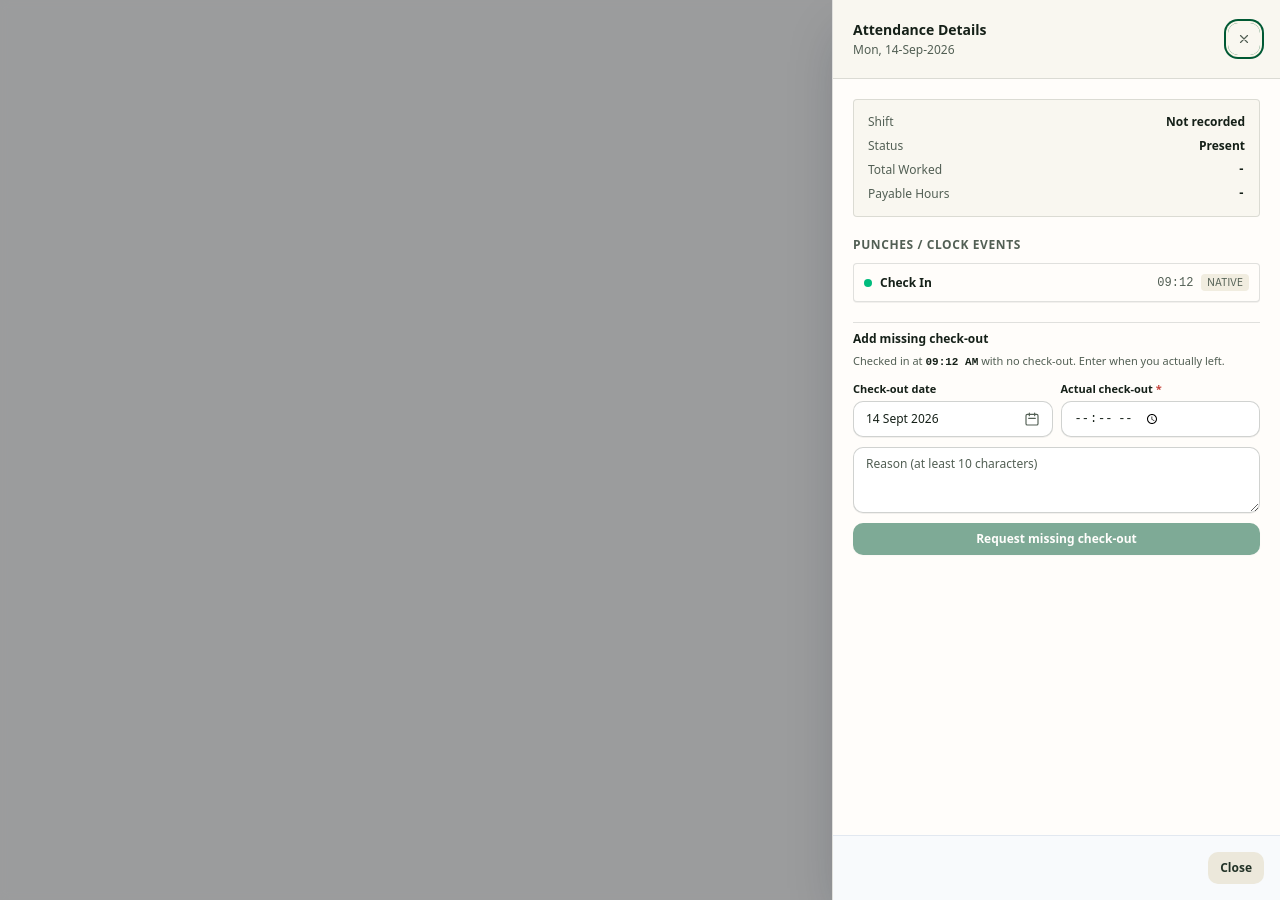
Test: attendance drawer, day with no check-out › shows the server's refusal and claims nothing was sent
Type "18:07" into the time field labelled "Actual check-out *".
click(1160, 419); type("18:07")  # box [1060, 401, 1260, 437]
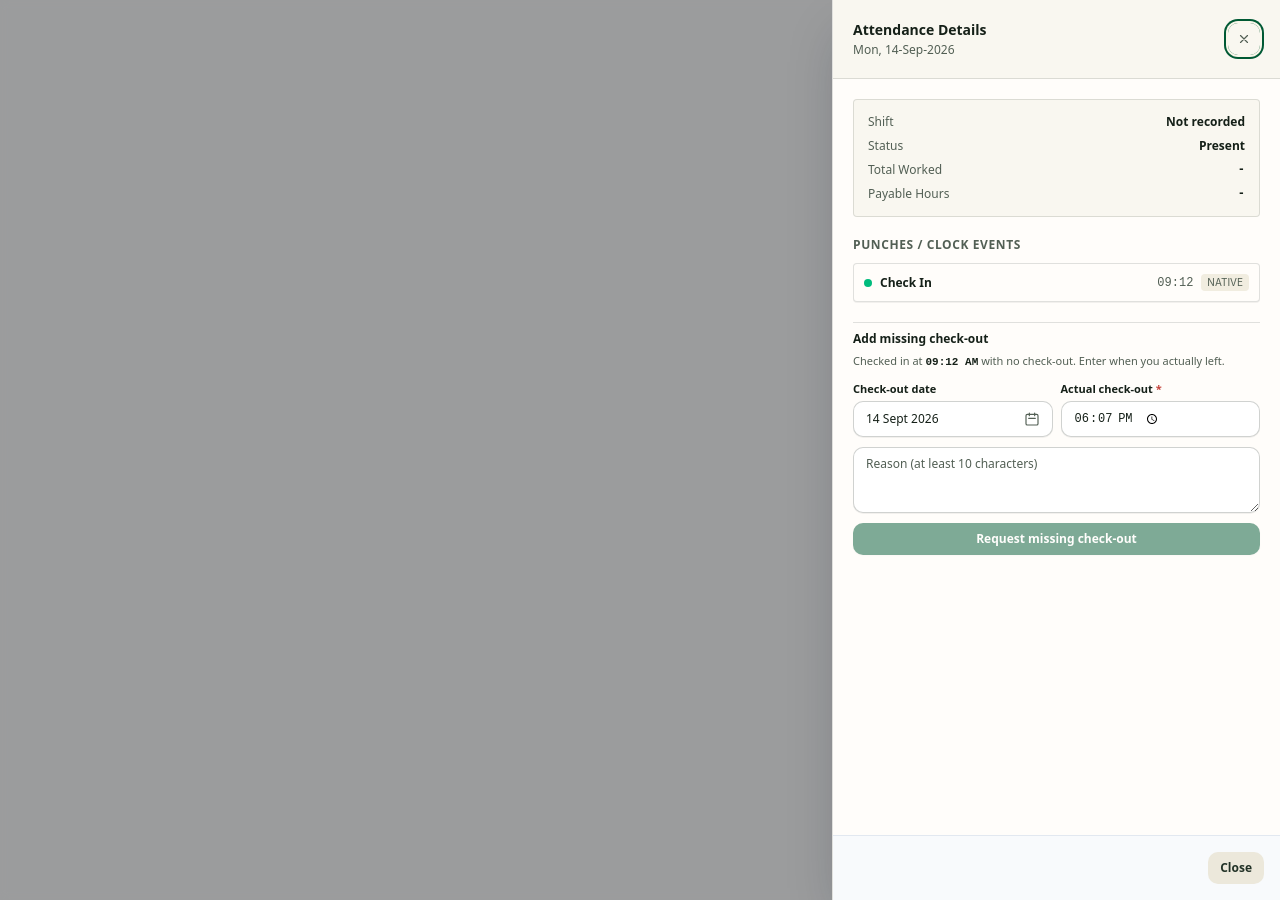
Type "Forgot to punch out" into the text box labelled "Reason".
click(1056, 480); type("Forgot to punch out")  # box [853, 447, 1260, 513]
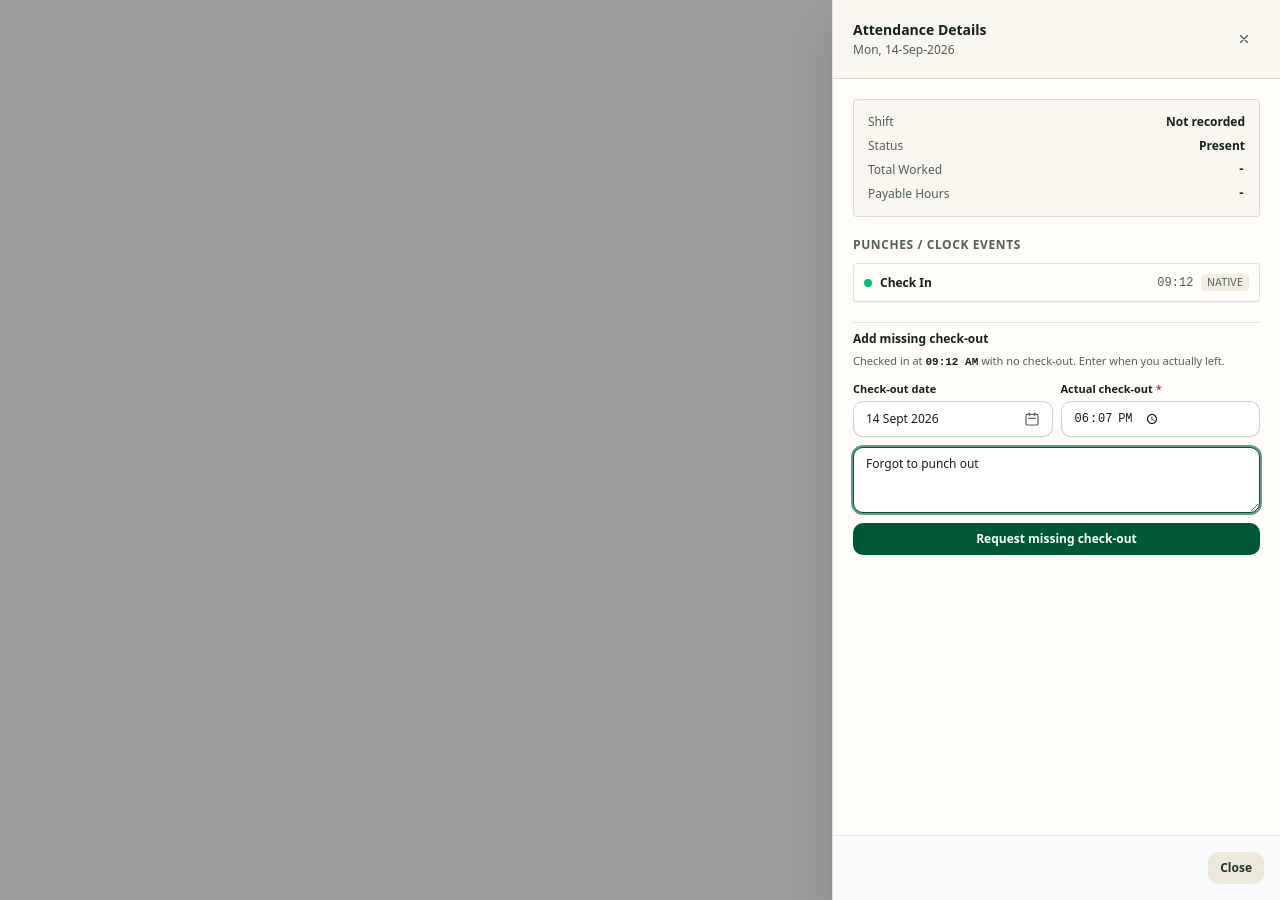
Click the button "Request missing check-out".
click(1056, 539)  # box [853, 523, 1260, 555]
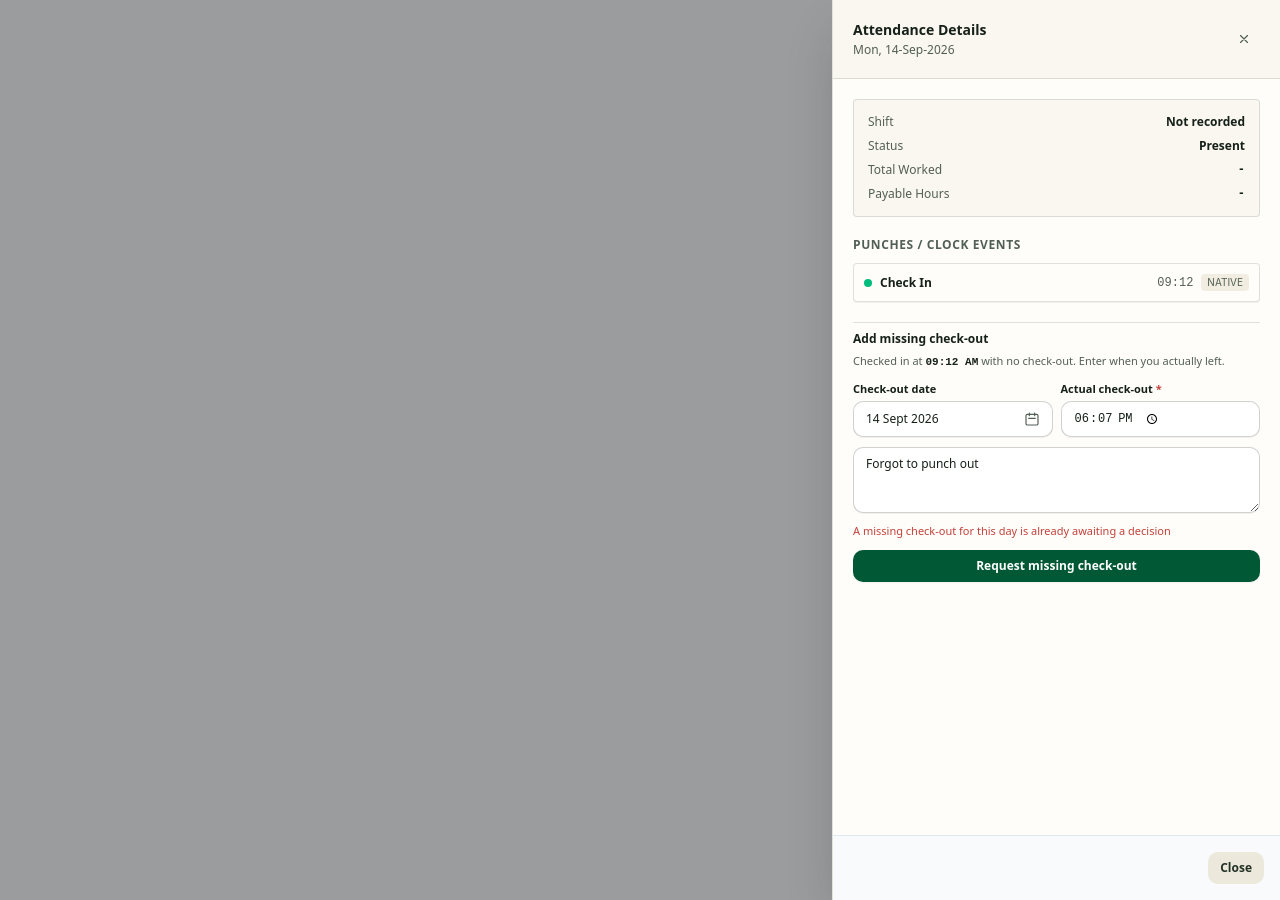
Expected: the message shows "already awaiting a decision", [853, 523, 1171, 538]
